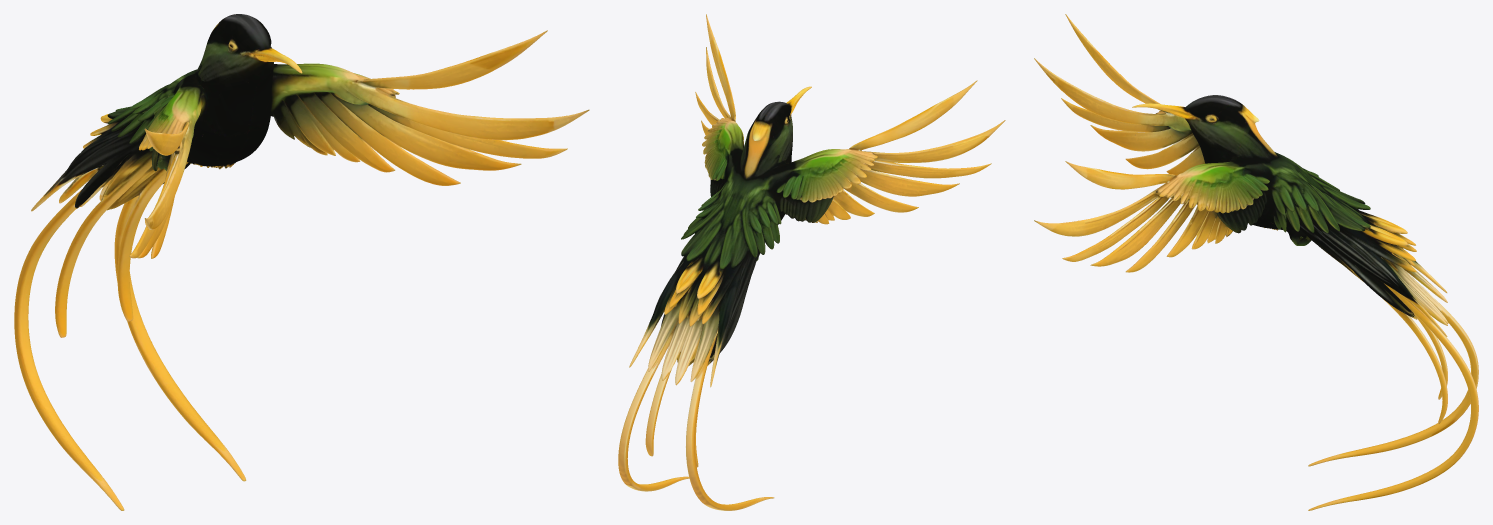
Rendered from doctor-bird.glb.
3 renders of one model, left to right at view 1: azimuth 30°, elevation 25°; view 2: azimuth 150°, elevation 25°; view 3: azimuth 270°, elevation 25°, orthographic. The views are drawn at different scales.
Bounding box in the file's own units: 1.64 × 1.89 × 1.9.
Materials: 1 (1 with a texture image).
